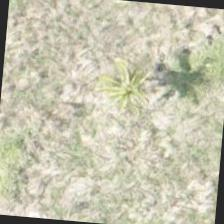Kelapa_Sawit: (85, 37, 182, 135)
